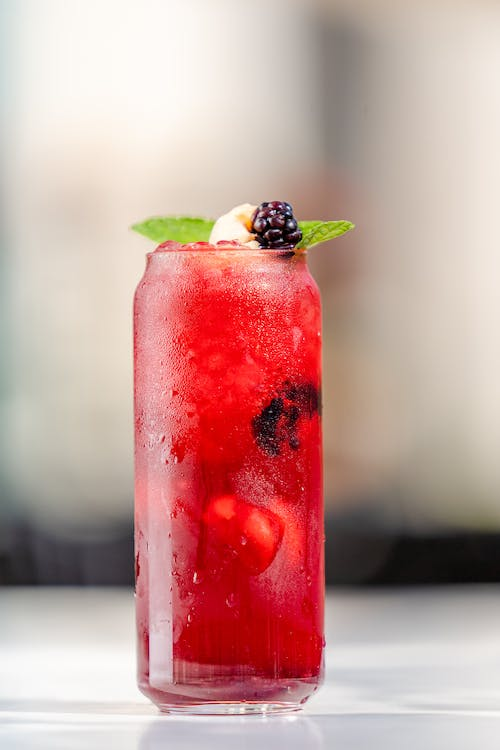alcohol: (130, 248, 325, 718)
